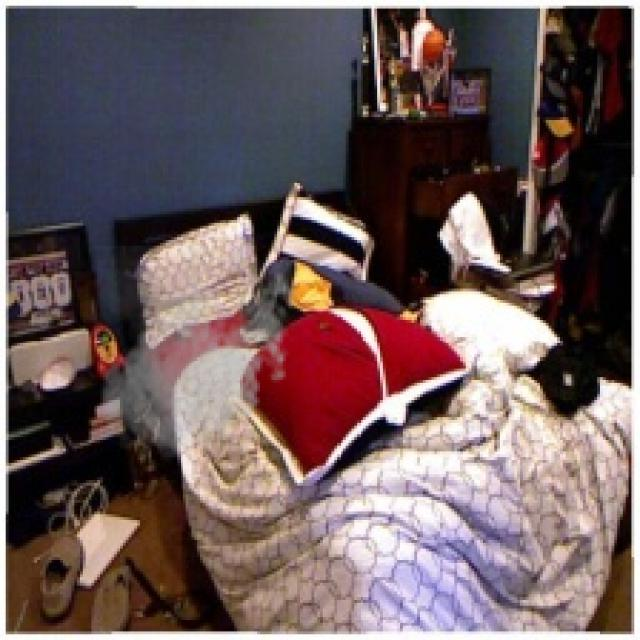smoke: (94, 245, 300, 466)
